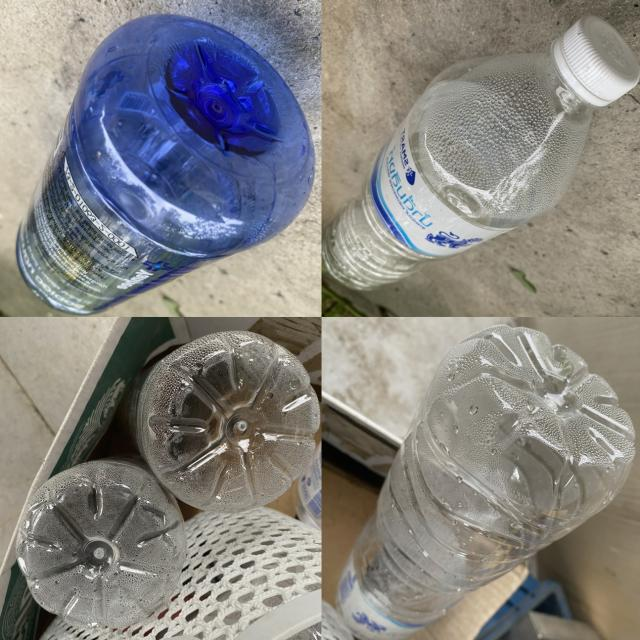plastik: (338, 325, 635, 640), (17, 15, 314, 314), (323, 16, 639, 289), (129, 331, 320, 513), (16, 459, 186, 628)
